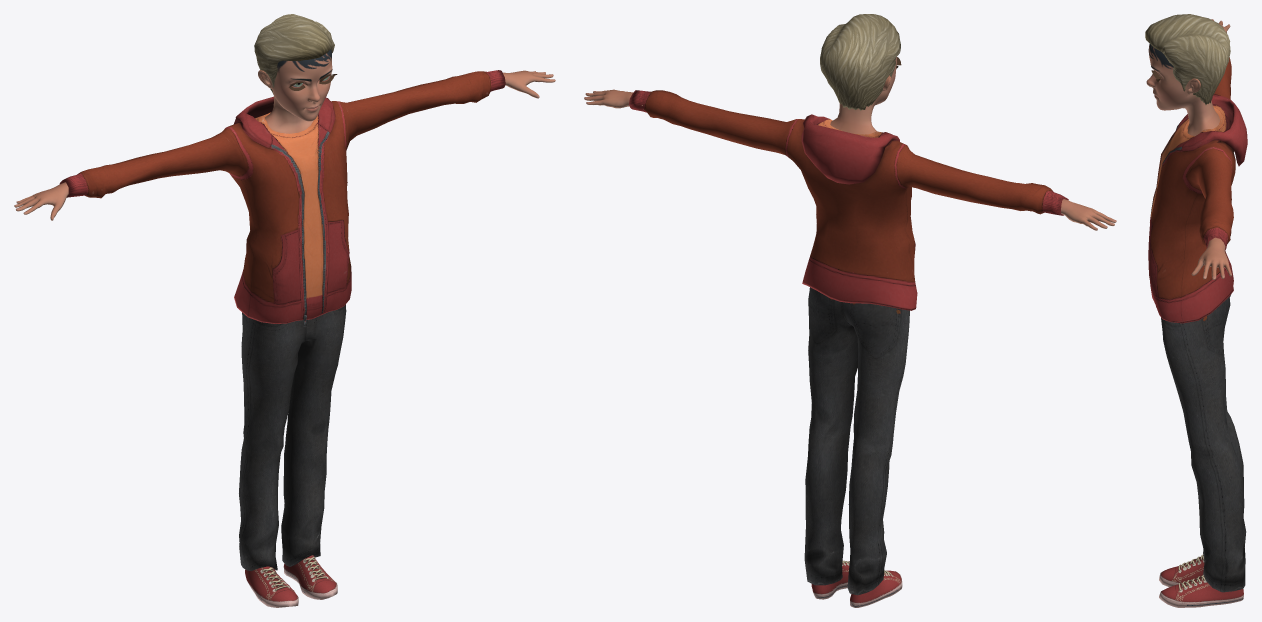
File: crianca-branca.obj
The picture shows the model from 3 angles, left to right: view 1: azimuth 30°, elevation 25°; view 2: azimuth 150°, elevation 25°; view 3: azimuth 270°, elevation 25°; orthographic projection.
Visible parts, largest first — view 1: Tops, Bottoms, Body, Hair, Shoes; view 2: Tops, Bottoms, Hair, Body, Shoes; view 3: Tops, Bottoms, Hair, Body, Shoes.
Boxes of the visible parts, <box> form: Tops: <box>59,70,505,326</box>; Bottoms: <box>239,304,346,571</box>; Body: <box>14,49,555,220</box>; Hair: <box>254,14,334,94</box>; Shoes: <box>245,555,337,607</box>; Tops: <box>629,90,1068,310</box>; Bottoms: <box>804,287,909,595</box>; Hair: <box>820,14,900,110</box>; Body: <box>584,57,1116,230</box>; Shoes: <box>811,560,902,607</box>; Tops: <box>1148,57,1247,323</box>; Bottoms: <box>1161,295,1246,592</box>; Hair: <box>1145,14,1230,104</box>; Body: <box>1146,19,1231,279</box>; Shoes: <box>1159,554,1243,607</box>.
Size of the model in its own units: 163 by 168 by 26.91.
5 materials, 5 textured.
